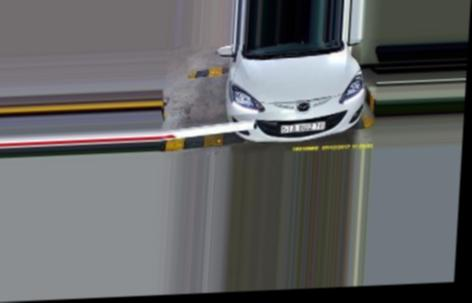License_Plate: (276, 120, 326, 134)
